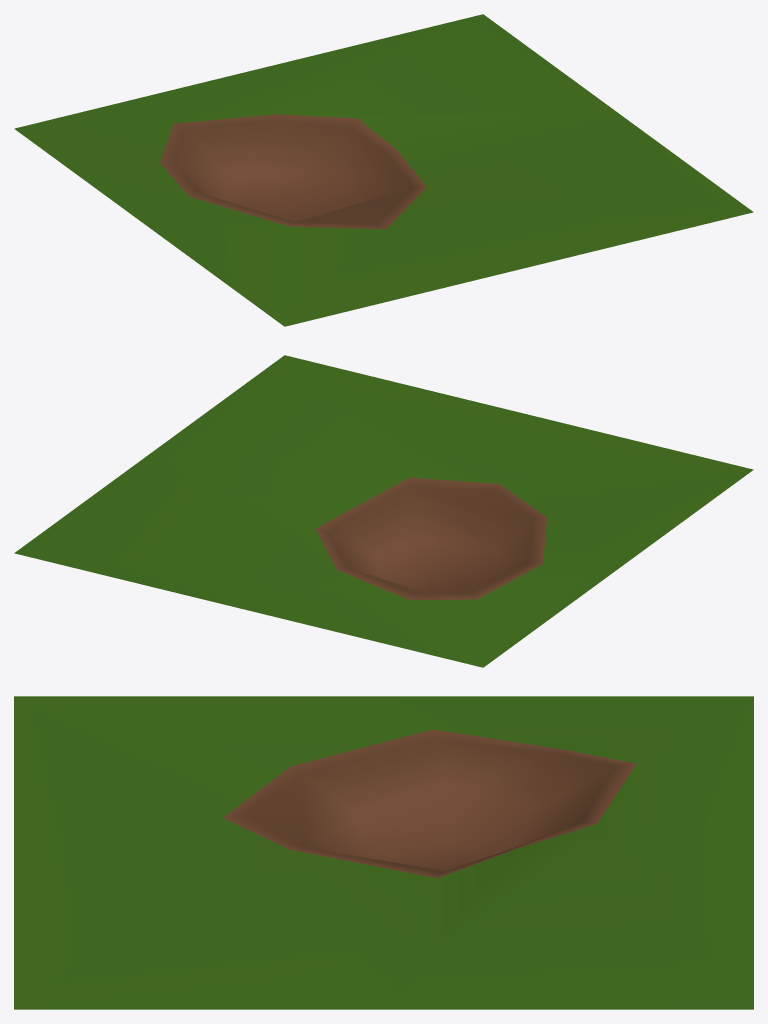
Rendered from GroundHole3_1 (4).fbx.
3 views of the same model, one above another, from view 1: azimuth 30°, elevation 25°; view 2: azimuth 150°, elevation 25°; view 3: azimuth 270°, elevation 25° (orthographic). The views are drawn at different scales.
Visible parts, largest first — view 1: GroundHole3_1 (4); view 2: GroundHole3_1 (4); view 3: GroundHole3_1 (4).
Boxes of the visible parts, x1,y1,x2,y2 form: GroundHole3_1 (4): (14, 14, 753, 326); GroundHole3_1 (4): (14, 355, 753, 667); GroundHole3_1 (4): (14, 696, 753, 1009).
Size of the model in its own units: 400 by 33.15 by 400.
